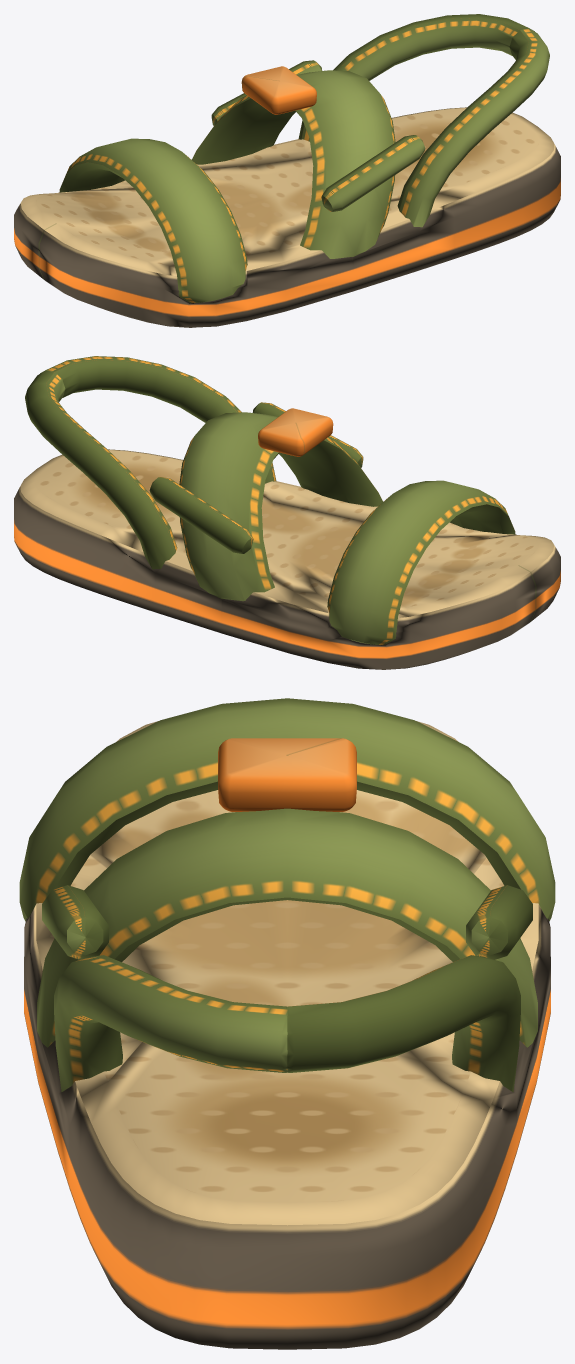
File: tsinelas_sandals.glb
3 renders of one model, top to bottom at view 1: azimuth 30°, elevation 25°; view 2: azimuth 150°, elevation 25°; view 3: azimuth 270°, elevation 25°, orthographic. The views are drawn at different scales.
Visible parts, largest first — view 1: sandals.001; view 2: sandals.001; view 3: sandals.001.
Boxes of the visible parts, x1=… form: sandals.001: x1=14, y1=14, x2=560, y2=327; sandals.001: x1=14, y1=356, x2=560, y2=669; sandals.001: x1=19, y1=698, x2=555, y2=1349.
Size of the model in its own units: 0.432 by 0.1445 by 0.1987.
Materials: 1 (1 with a texture image).
